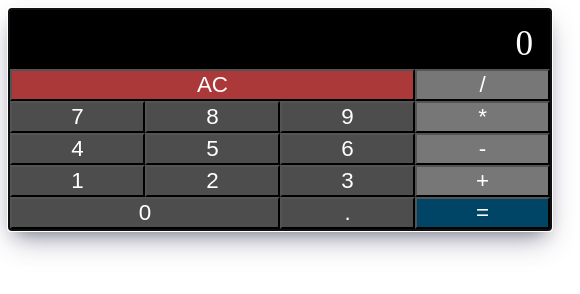
Test: Product Backlog test suite › should remove operator after pressing dot button
Step 1. Click the button "/" → (482, 85), box [415,69,550,101]
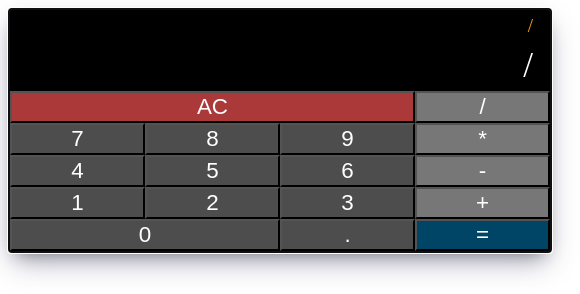
Step 2. Click the button "." → (348, 235), box [280,219,415,251]
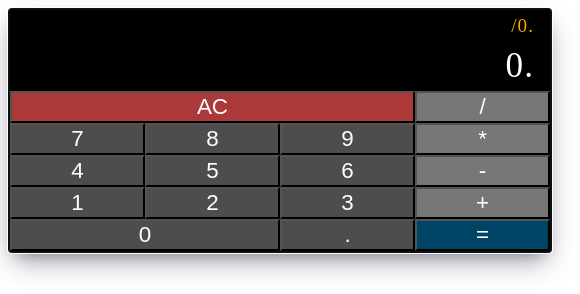
Now the text with id "display" reads "0.", box [506,46,534,85]
